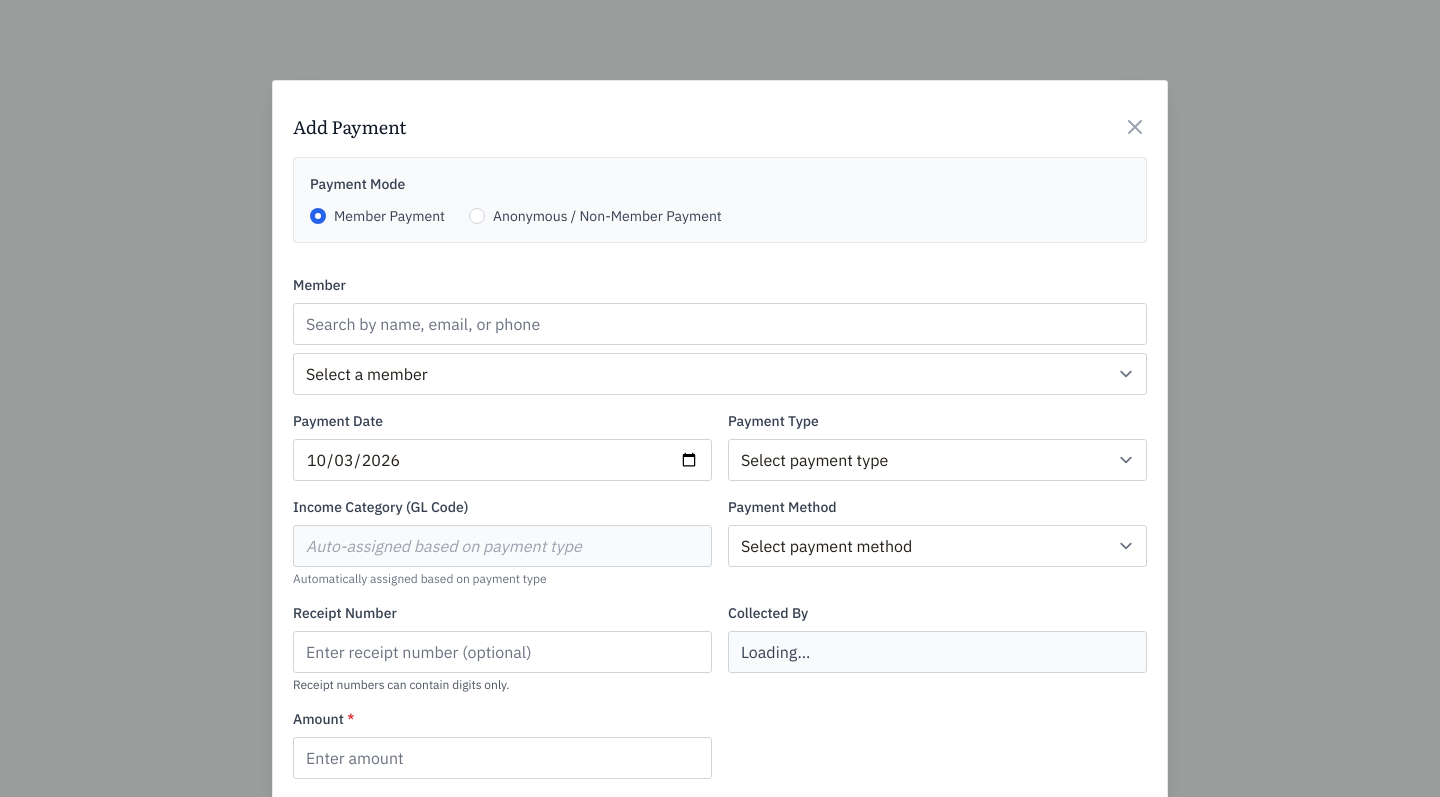
Test: AddPaymentModal — payer check serial › accepts digits only, since a check serial is numeric
The image size is (1440, 797).
Select "check" in the dropdown labelled "Payment Method" at (938, 546), box [728,525,1147,567]
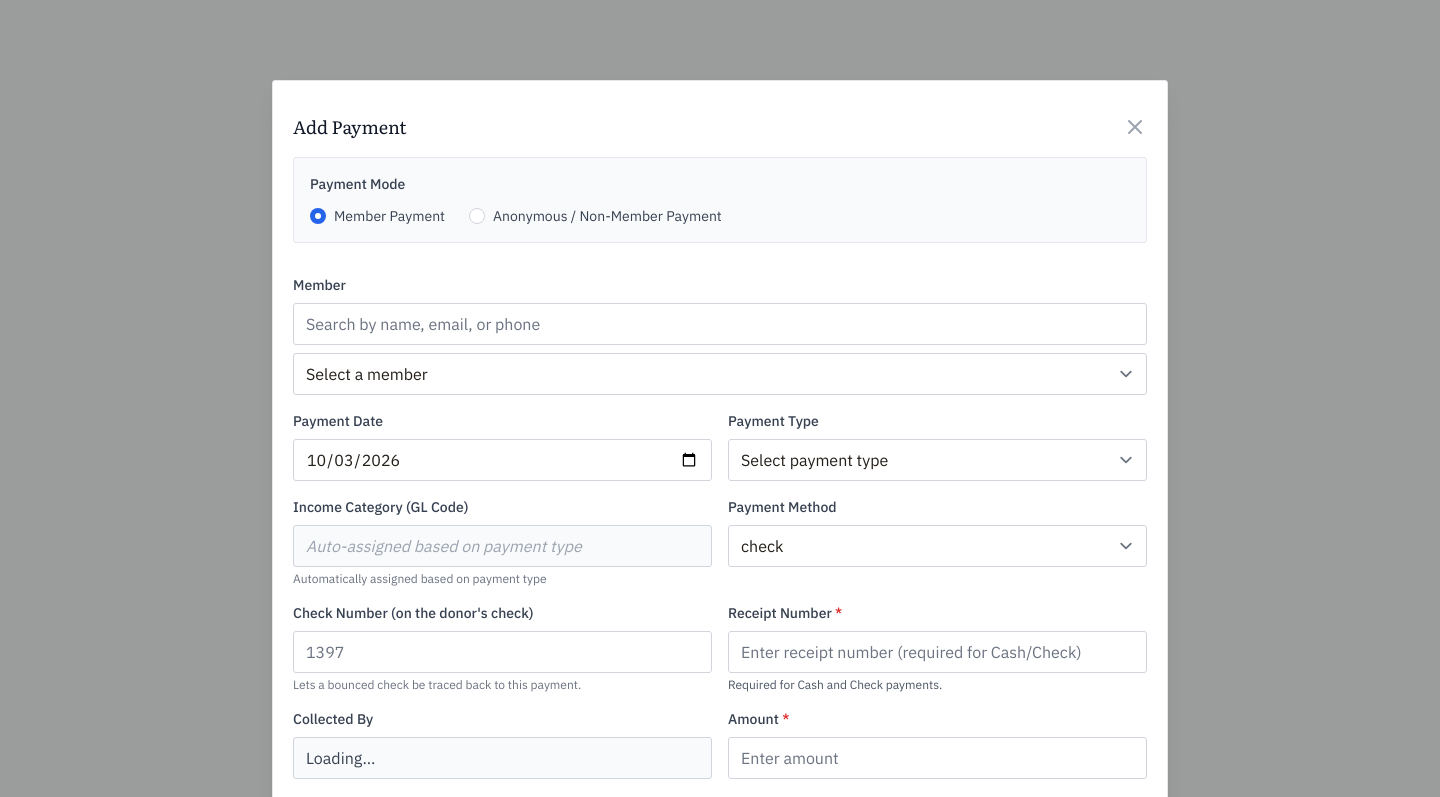
Type "CHK-1397" into the field with test id "payer-check-number" at (502, 652), box [293,631,712,673]
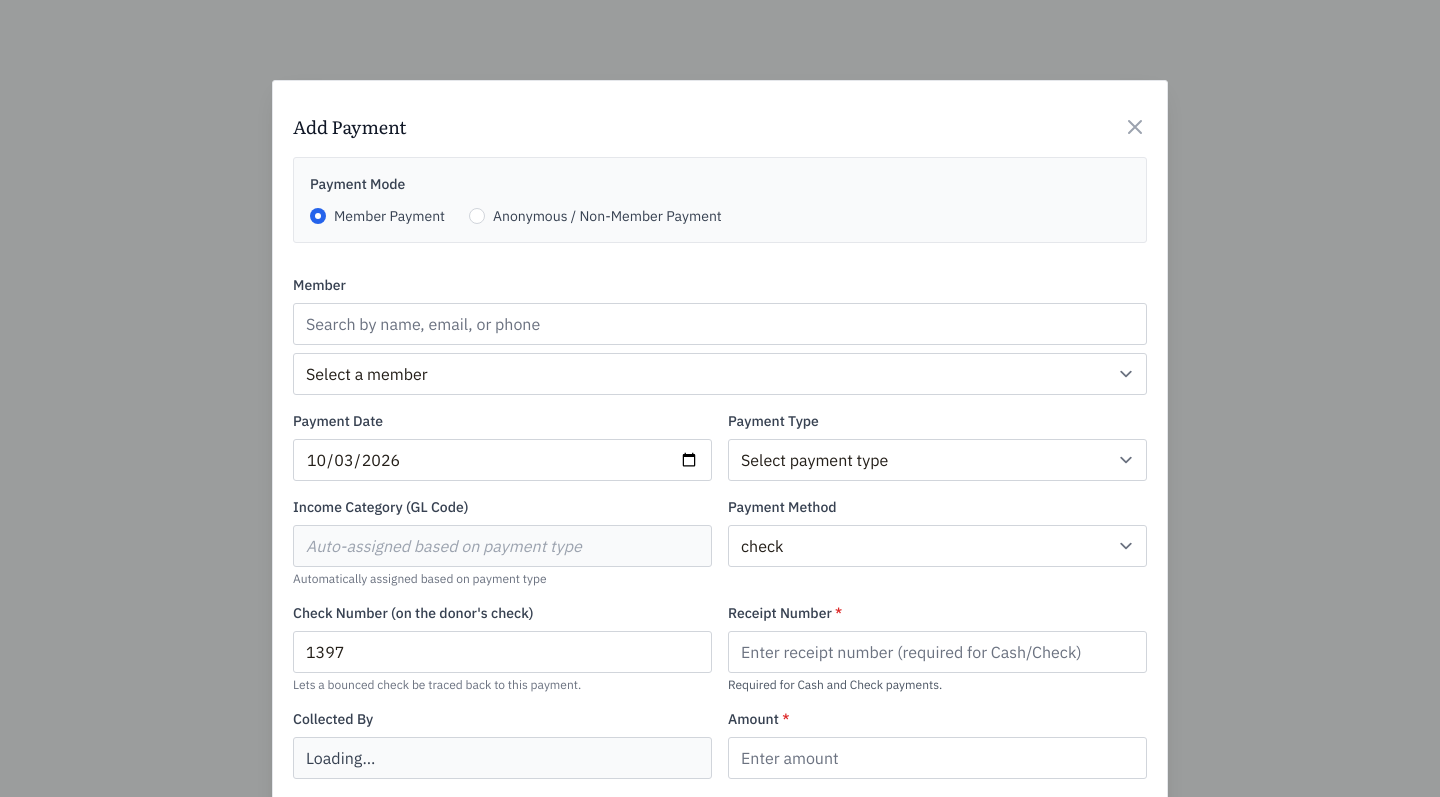
Check: the field with test id "payer-check-number" holds "1397", box [293,631,712,673]
